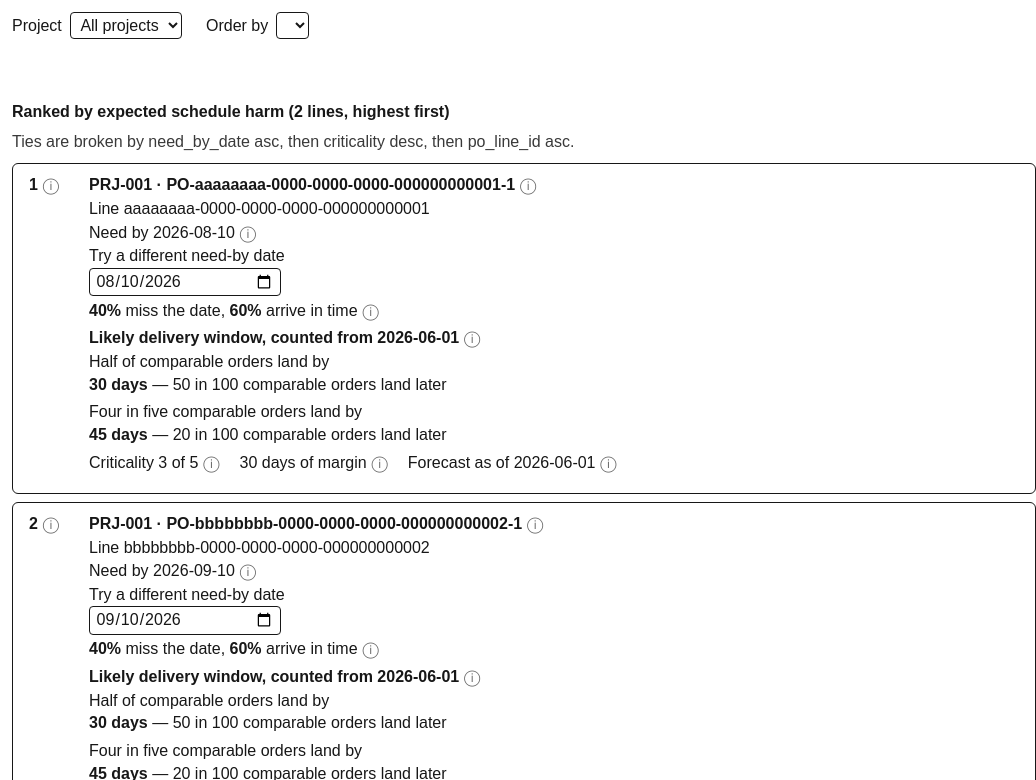
adjusting a need-by date › reports an adjustment the server did not apply, with its cause
Type "2026-08-05" into the date field labelled "Try a different need-by date" below "2026-08-10" at (185,282), box [89,268,281,296]
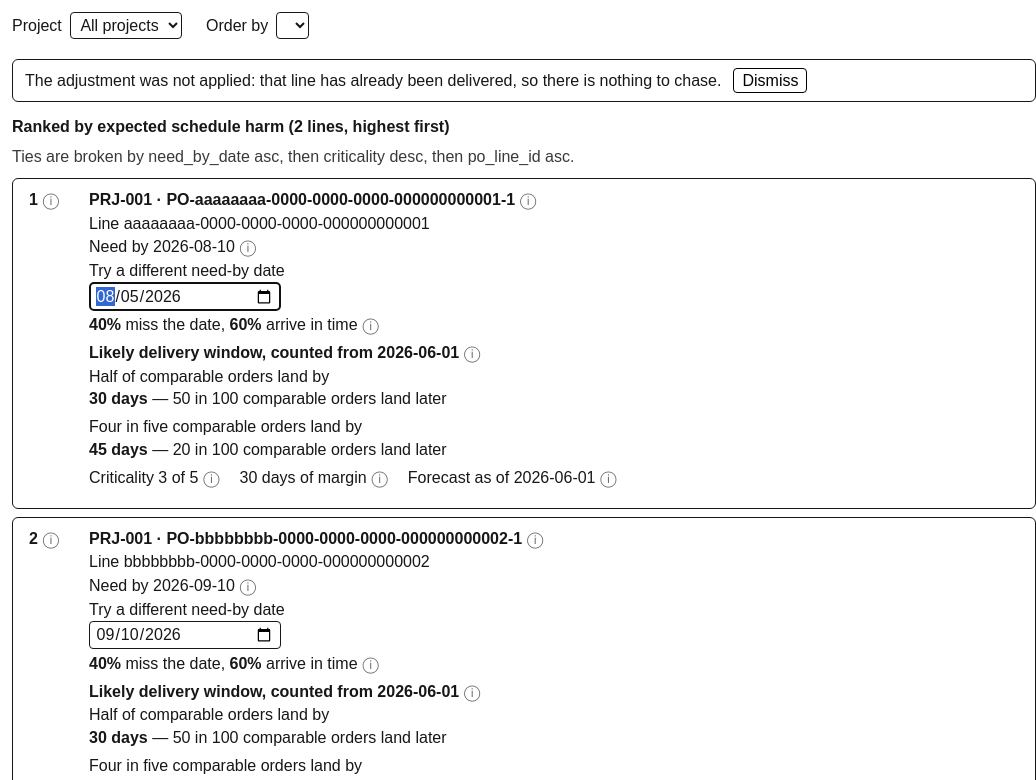
Result: the message named "Adjustment status" shows "not applied" at [25,72,721,89]
Result: the message named "Adjustment status" shows "already been delivered" at [25,72,721,89]
